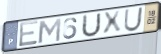6: (62, 16, 78, 40)
E: (18, 19, 39, 49)
M: (38, 17, 63, 45)
U: (80, 11, 102, 39), (123, 6, 145, 33)
X: (102, 9, 123, 37)
